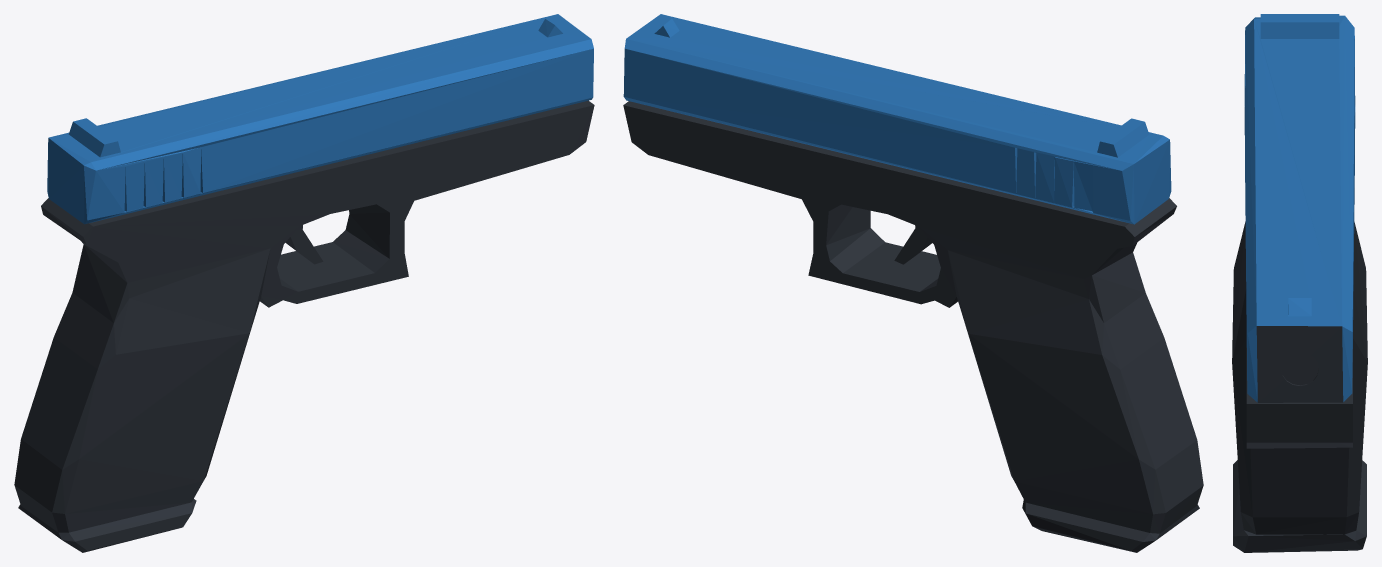
Rendered from VR_gun_blue_standard_v002.glb.
3 renders of one model, left to right at view 1: azimuth 30°, elevation 25°; view 2: azimuth 150°, elevation 25°; view 3: azimuth 270°, elevation 25°, orthographic. The views are drawn at different scales.
Visible parts, largest first — view 1: VR_Gun_Blue_Frame, VR_Gun_Blue_Slide; view 2: VR_Gun_Blue_Frame, VR_Gun_Blue_Slide; view 3: VR_Gun_Blue_Slide, VR_Gun_Blue_Frame.
Boxes of the visible parts, bbox=[...] form: VR_Gun_Blue_Frame: bbox=[14, 100, 594, 552]; VR_Gun_Blue_Slide: bbox=[47, 14, 593, 224]; VR_Gun_Blue_Frame: bbox=[623, 101, 1203, 552]; VR_Gun_Blue_Slide: bbox=[623, 14, 1171, 224]; VR_Gun_Blue_Slide: bbox=[1244, 14, 1355, 402]; VR_Gun_Blue_Frame: bbox=[1232, 221, 1367, 552].
Bounding box in the file's own units: 0.199 × 0.1392 × 0.0345.
